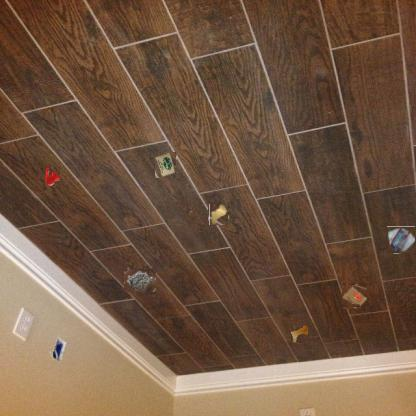dirty: (387, 226, 416, 254), (124, 268, 156, 292), (342, 284, 366, 308), (156, 152, 178, 178), (209, 204, 229, 225)
liquid: (290, 325, 308, 343), (44, 166, 60, 186)
